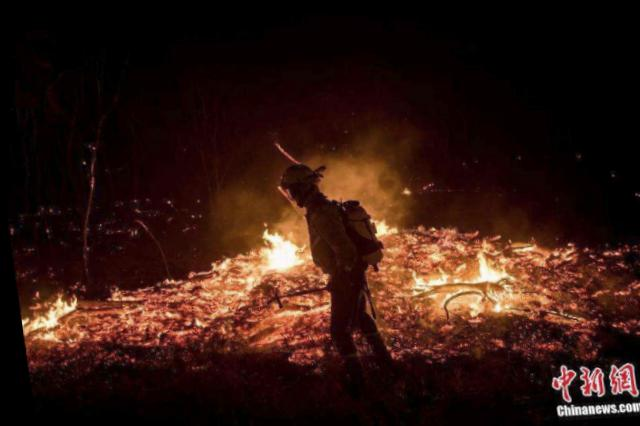fire: (4, 159, 639, 413)
